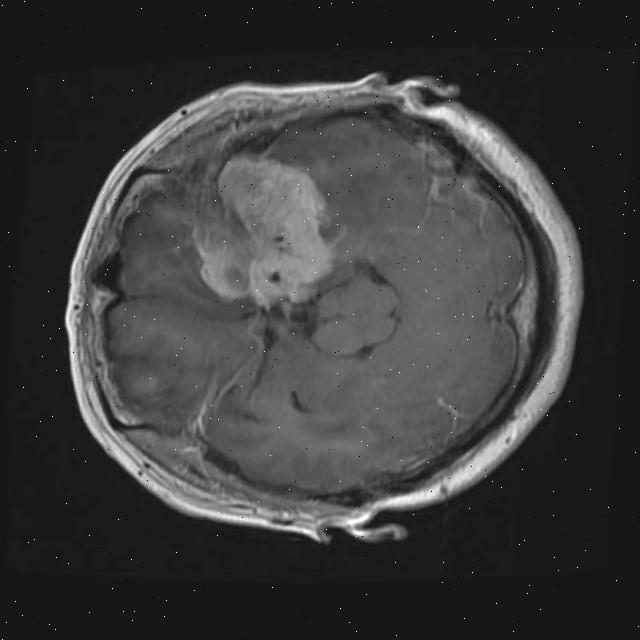Meningioma: (187, 149, 343, 312)
